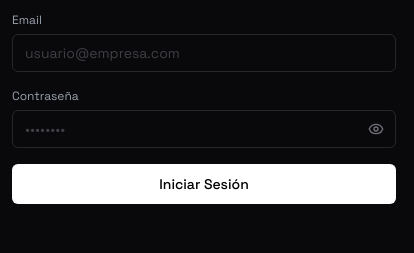
Test: LoginForm › muestra las credenciales inválidas ante un error 401
This screenshot has width=414, height=253.
Type "test@example.com" into the field labelled "Email" at (204, 53), box [12,34,396,72]
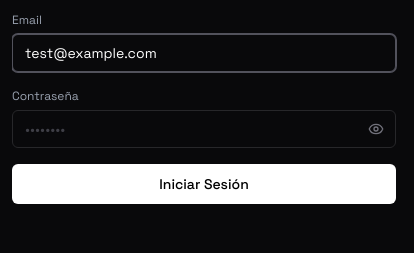
Type "wrong-password" into the password field labelled "Contraseña" at (204, 129), box [12,110,396,148]
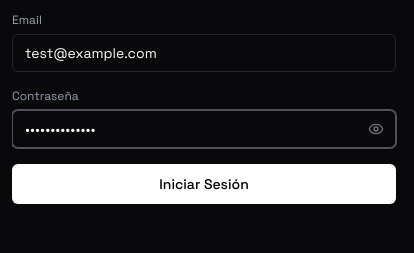
Click the button "Iniciar Sesión" at (204, 184), box [12,164,396,204]
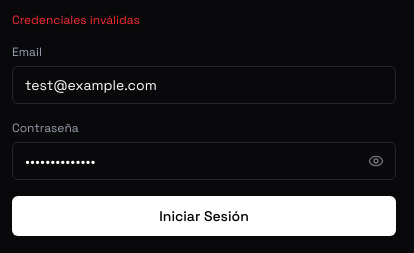
Now the text "Credenciales inválidas" is shown, box [12,12,140,28]
